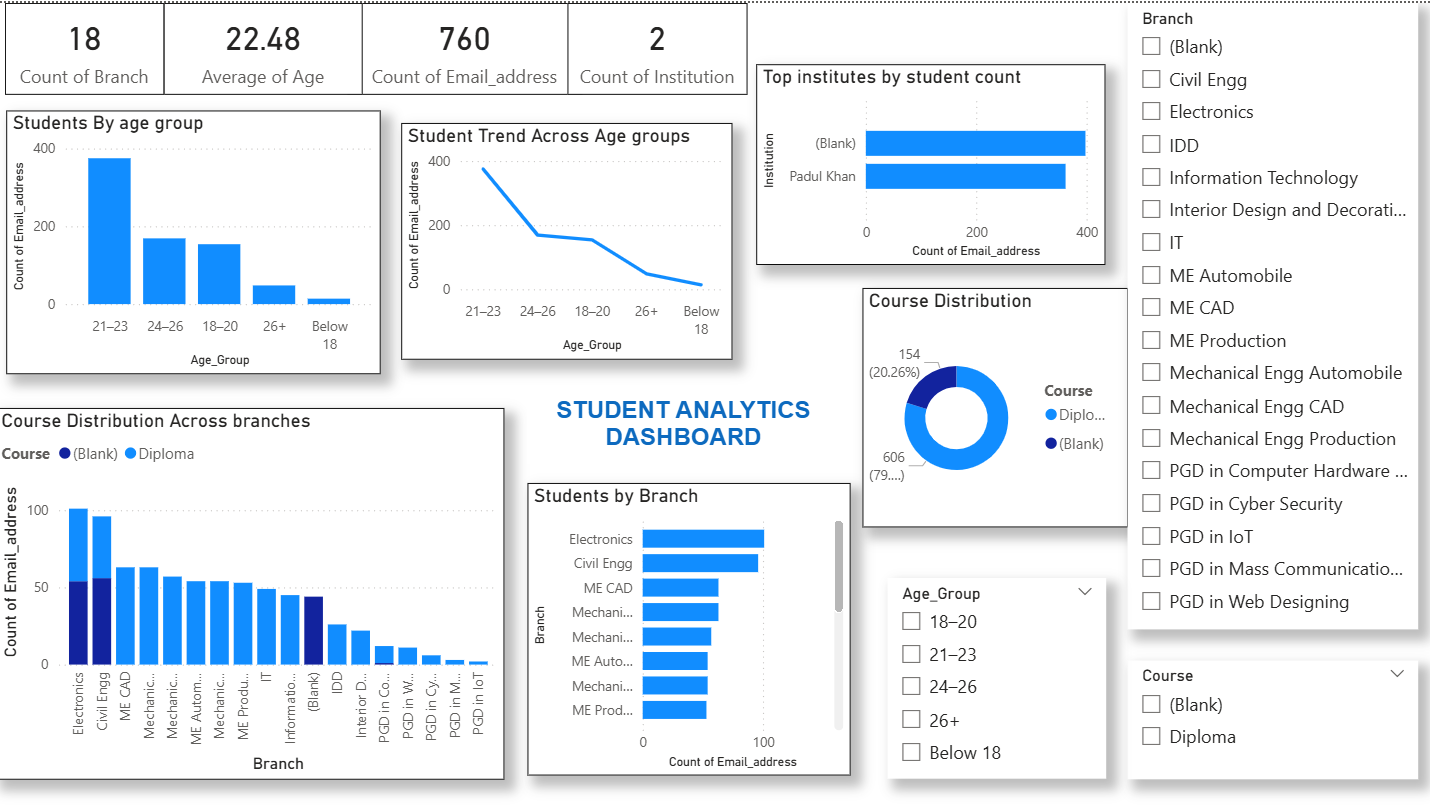

The dashboard page shown, as its layout file describes it:
{"tool":"powerbi","page":{"name":"Page 1","canvas":[1280,720],"ordinal":0},"visuals":[{"type":"clusteredBarChart","title":"Students by Branch","fields":{"Category":["Append21.Branch"],"Y":["Append21.Email_address"]},"box":[472.9,427.1,287.1,260],"z":0},{"type":"clusteredColumnChart","title":"Students By age group","fields":{"Category":["Append21.Age_Group"],"Y":["Append21.Email_address"]},"box":[10,95.7,332.9,234.3],"z":1000},{"type":"card","fields":{"Values":["Append21.Email_address"]},"box":[312.9,0,208.6,81.4],"z":2000},{"type":"card","fields":{"Values":["Append21.Age"]},"box":[150,0,177.1,81.4],"z":3000},{"type":"card","fields":{"Values":["Append21.Institution"]},"box":[508.6,0,160,81.4],"z":4000},{"type":"card","fields":{"Values":["Append21.Branch"]},"box":[8.6,0,141.4,81.4],"z":5000},{"type":"columnChart","title":"Course Distribution Across branches","fields":{"Category":["Append21.Branch"],"Y":["Append21.Email_address"],"Series":["Append21.Course"]},"box":[0,360,452.9,330],"z":5001},{"type":"barChart","title":"Top institutes by student count","fields":{"Category":["Append21.Institution"],"Y":["Append21.Email_address"]},"box":[677.1,54.3,310,178.6],"z":5002},{"type":"lineChart","title":"Student Trend Across Age groups","fields":{"Category":["Append21.Age_Group"],"Y":["Append21.Email_address"]},"box":[361.4,107.1,294.3,210],"z":5003},{"type":"donutChart","title":"Course Distribution","fields":{"Category":["Append21.Course"],"Y":["Append21.Email_address"]},"box":[771.4,252.9,235.7,212.9],"z":5004},{"type":"slicer","fields":{"Values":["Append21.Branch"]},"box":[1007.1,0,258.6,557.1],"z":5005},{"type":"slicer","fields":{"Values":["Append21.Course"]},"box":[1007.1,584.3,258.6,105.7],"z":5006},{"type":"slicer","fields":{"Values":["Append21.Age_Group"]},"box":[792.9,511.4,194.3,178.6],"z":5007},{"type":"textbox","box":[472.9,344.3,277.1,65.7],"z":5008}]}

Visuals, with their boxes in screenshot pixels (x1, y1, x2, y2), scaled from the page's 1280x720 canvas onto the 1430x810 screenshot:
"Students by Branch" clusteredBarChart: (528, 480, 849, 773)
"Students By age group" clusteredColumnChart: (11, 108, 383, 371)
card - Append21.Email_address: (350, 0, 583, 92)
card - Append21.Age: (168, 0, 365, 92)
card - Append21.Institution: (568, 0, 747, 92)
card - Append21.Branch: (10, 0, 168, 92)
"Course Distribution Across branches" columnChart: (0, 405, 506, 776)
"Top institutes by student count" barChart: (756, 61, 1103, 262)
"Student Trend Across Age groups" lineChart: (404, 120, 733, 357)
"Course Distribution" donutChart: (862, 285, 1125, 524)
slicer - Append21.Branch: (1125, 0, 1414, 627)
slicer - Append21.Course: (1125, 657, 1414, 776)
slicer - Append21.Age_Group: (886, 575, 1103, 776)
textbox: (528, 387, 838, 461)
